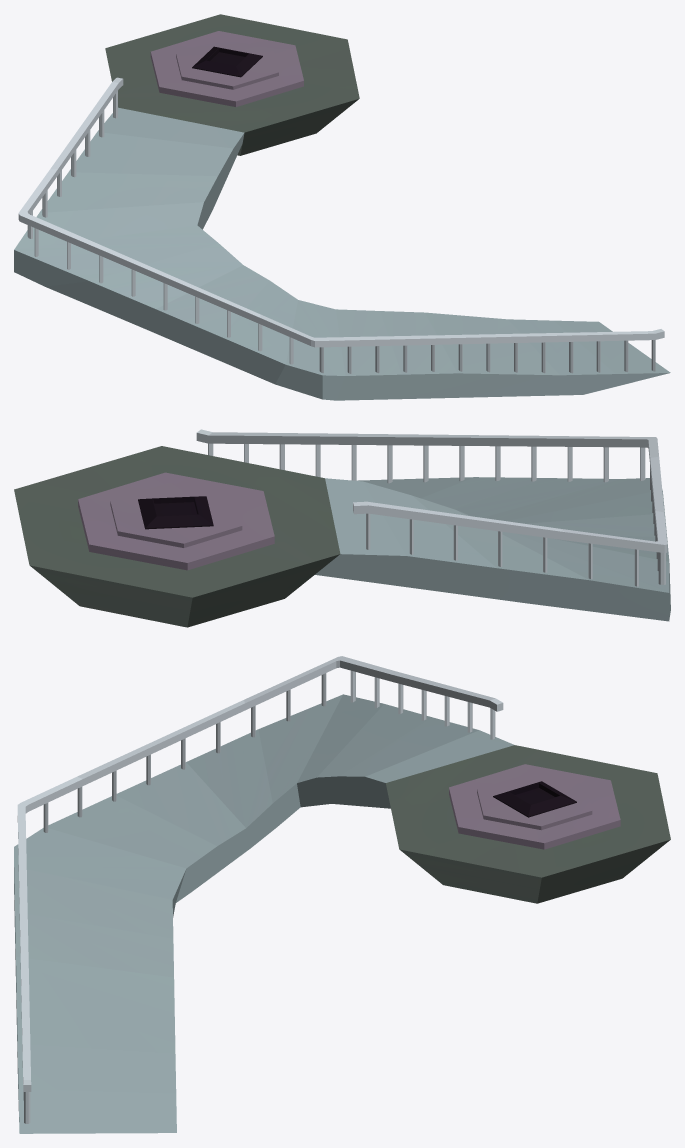
Rendered from lvl1_isle_T_switch2.glb.
The picture shows the model from 3 angles, top to bottom: view 1: azimuth 30°, elevation 25°; view 2: azimuth 150°, elevation 25°; view 3: azimuth 270°, elevation 25°; orthographic projection. The views are drawn at different scales.
Visible parts, largest first — view 1: lvl1_isle_T_switch2; view 2: lvl1_isle_T_switch2; view 3: lvl1_isle_T_switch2.
Boxes of the visible parts, x1,y1,x2,y2 form: lvl1_isle_T_switch2: [14, 14, 670, 400]; lvl1_isle_T_switch2: [14, 429, 670, 627]; lvl1_isle_T_switch2: [14, 656, 670, 1133].
Size of the model in its own units: 16.51 by 6.77 by 16.37.
1 material, 1 textured.
